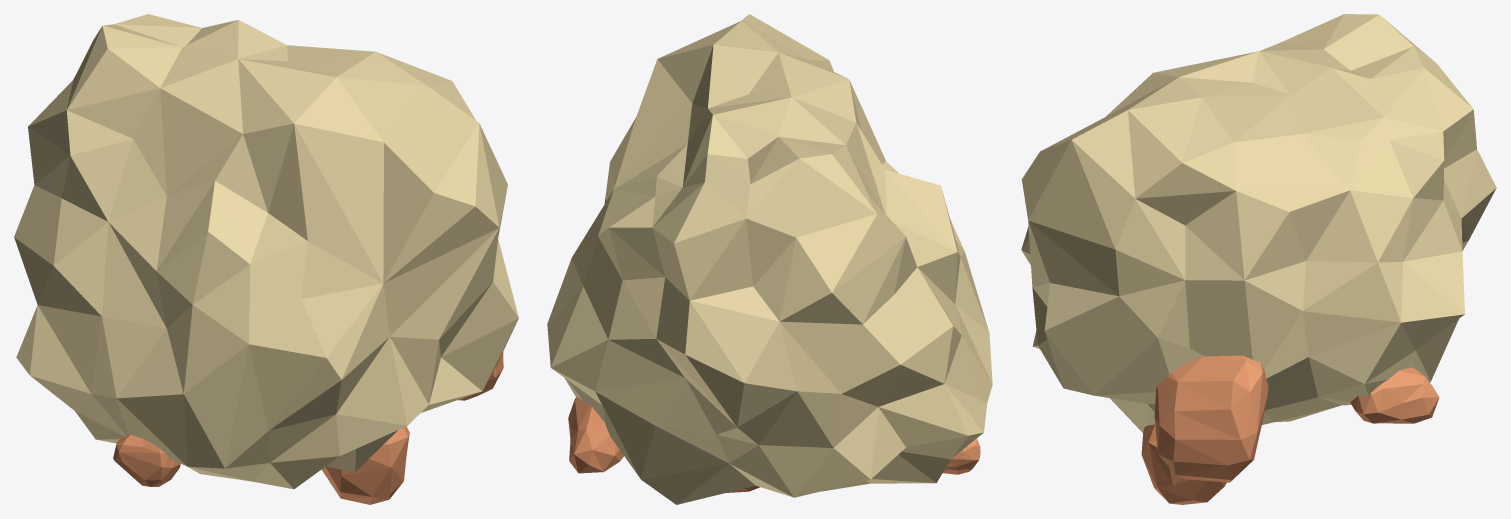
Rendered from StoneOre (46).fbx.
3 views of the same model, side by side, from view 1: azimuth 30°, elevation 25°; view 2: azimuth 150°, elevation 25°; view 3: azimuth 270°, elevation 25° (orthographic). The views are drawn at different scales.
Parts seen in each view (by area): view 1: Asteroid333; view 2: Asteroid333; view 3: Asteroid333.
Part boxes in pixels (x1=…): Asteroid333: x1=14, y1=14, x2=518, y2=504; Asteroid333: x1=547, y1=14, x2=992, y2=504; Asteroid333: x1=1021, y1=14, x2=1496, y2=504.
Bounding box in the file's own units: 459 × 447 × 463.
